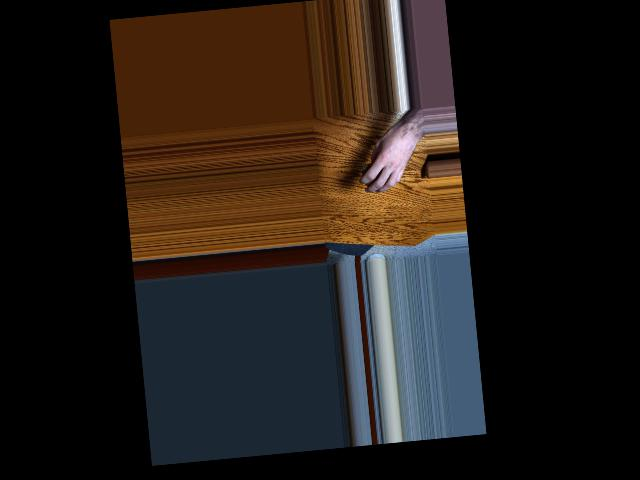onion: (361, 160, 387, 188)
